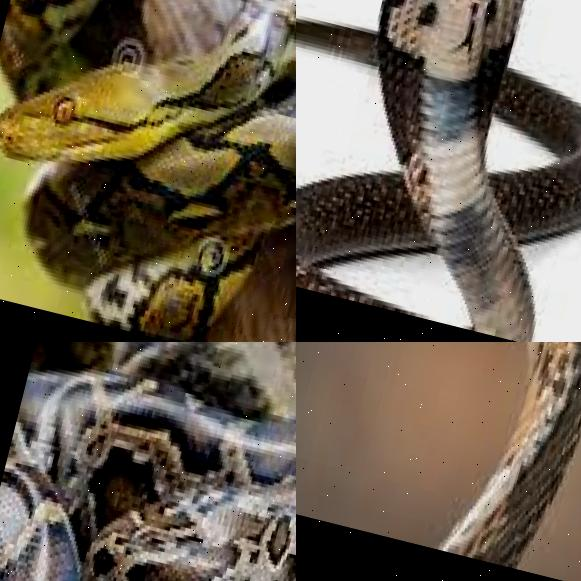snake: (0, 0, 296, 342), (296, 0, 581, 342), (0, 342, 296, 581), (358, 342, 581, 581)
